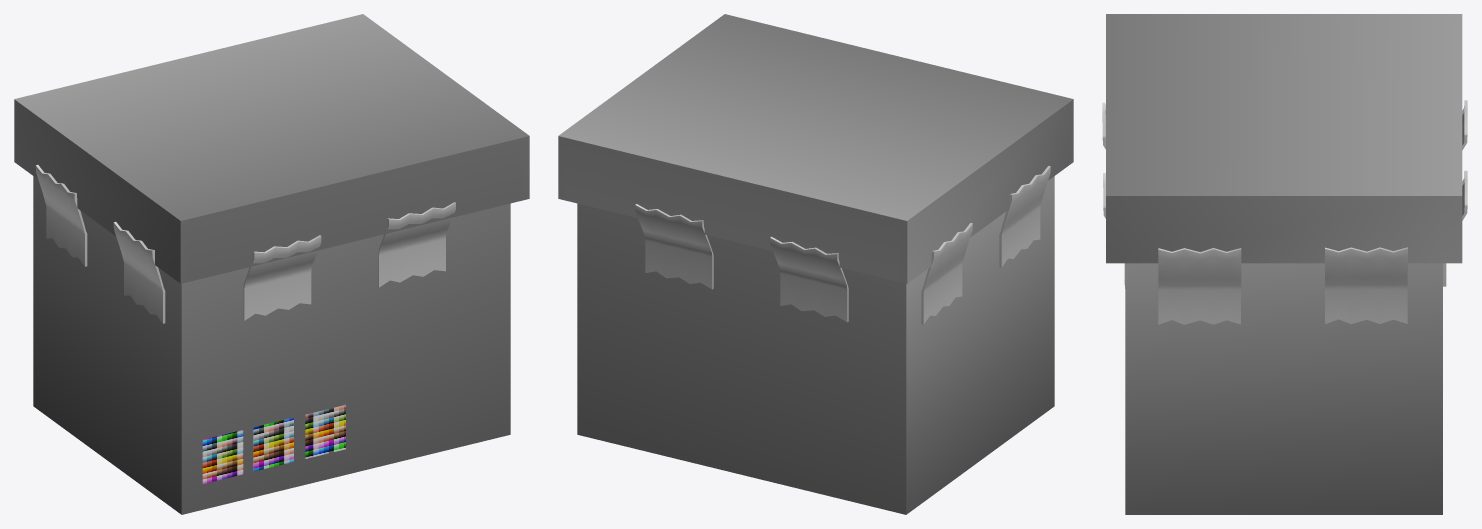
The model's file is Paquete4.fbx.
3 views of the same model, side by side, from view 1: azimuth 30°, elevation 25°; view 2: azimuth 150°, elevation 25°; view 3: azimuth 270°, elevation 25° (orthographic). The views are drawn at different scales.
Visible parts, largest first — view 1: Paquete4, celo_paquete4, Etiquetas4; view 2: Paquete4, celo_paquete4; view 3: Paquete4, celo_paquete4.
Boxes of the visible parts, <box> form: Paquete4: <box>14,14,529,514</box>; celo_paquete4: <box>35,165,455,323</box>; Etiquetas4: <box>202,405,345,483</box>; Paquete4: <box>558,14,1073,514</box>; celo_paquete4: <box>635,166,1050,324</box>; Paquete4: <box>1106,14,1462,514</box>; celo_paquete4: <box>1102,100,1467,324</box>.
Size of the model in its own units: 7.52 by 6.11 by 6.24.
